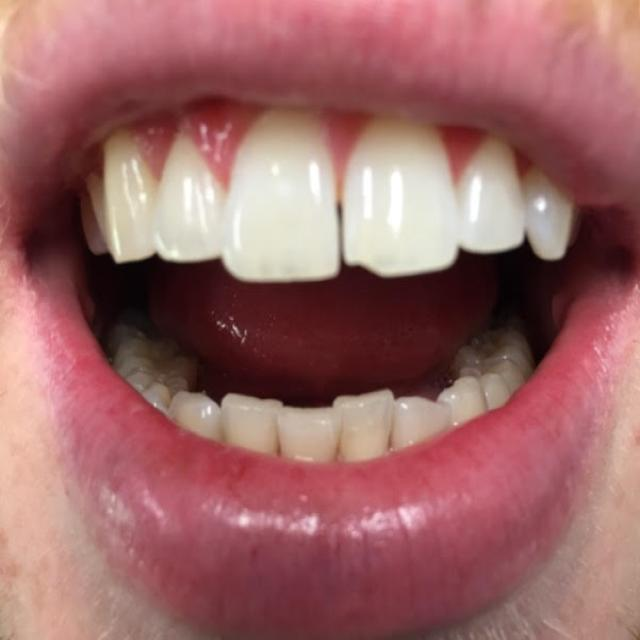Fractured Teeth: (343, 118, 459, 277)
